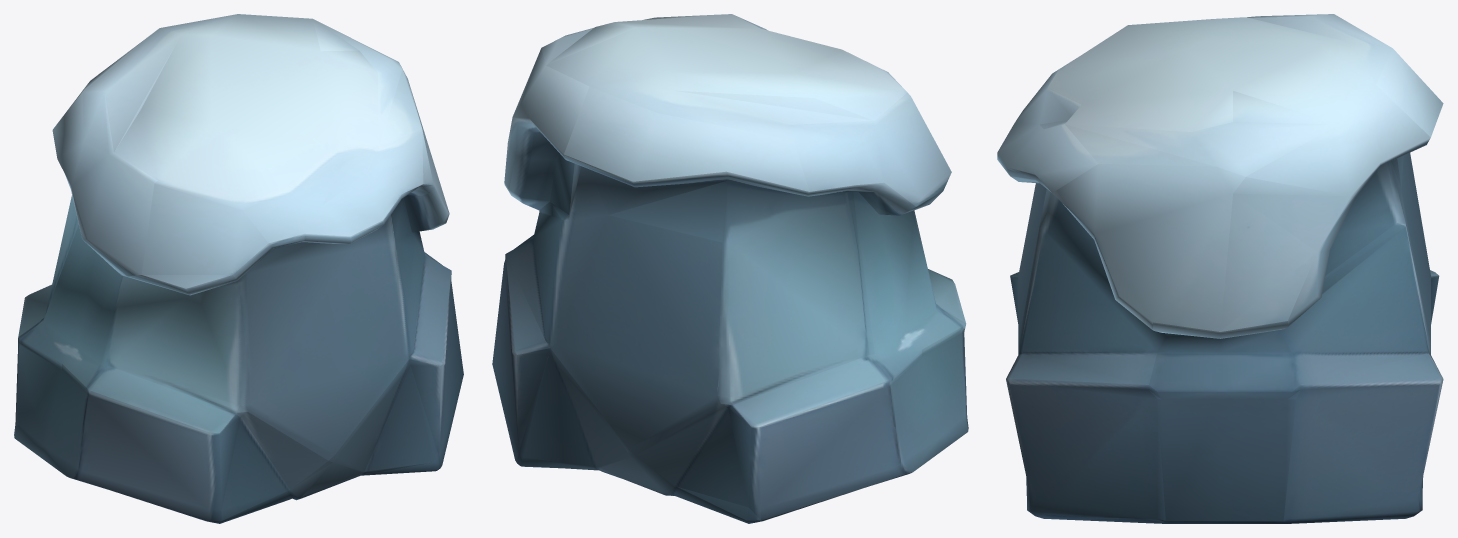
3 views of the same model, side by side, from view 1: azimuth 30°, elevation 25°; view 2: azimuth 150°, elevation 25°; view 3: azimuth 270°, elevation 25° (orthographic). The views are drawn at different scales.
Visible parts, largest first — view 1: glacier-rock-1; view 2: glacier-rock-1; view 3: glacier-rock-1.
Part boxes in pixels (left/top/right/bottom): glacier-rock-1: left=14, top=14, right=463, bottom=523; glacier-rock-1: left=492, top=14, right=968, bottom=523; glacier-rock-1: left=997, top=14, right=1443, bottom=523.
Size of the model in its own units: 0.3669 by 0.3249 by 0.3162.
1 material, 1 textured.
